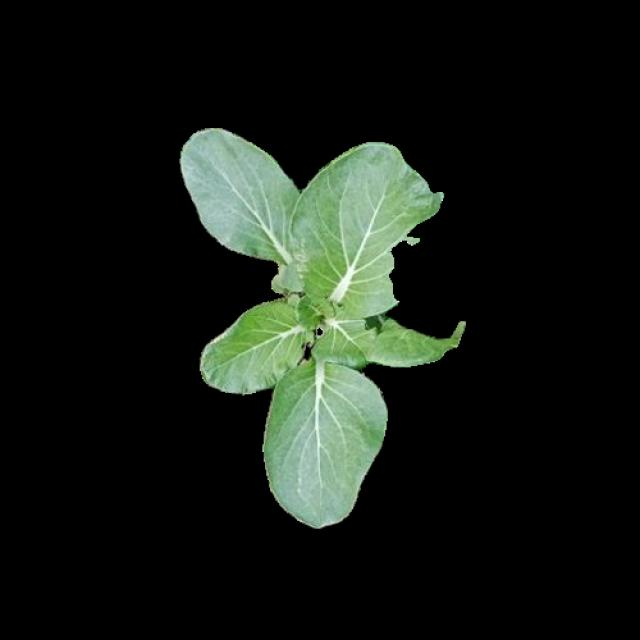not-mature: (181, 128, 464, 527)
unhealthy: (290, 144, 446, 316)
